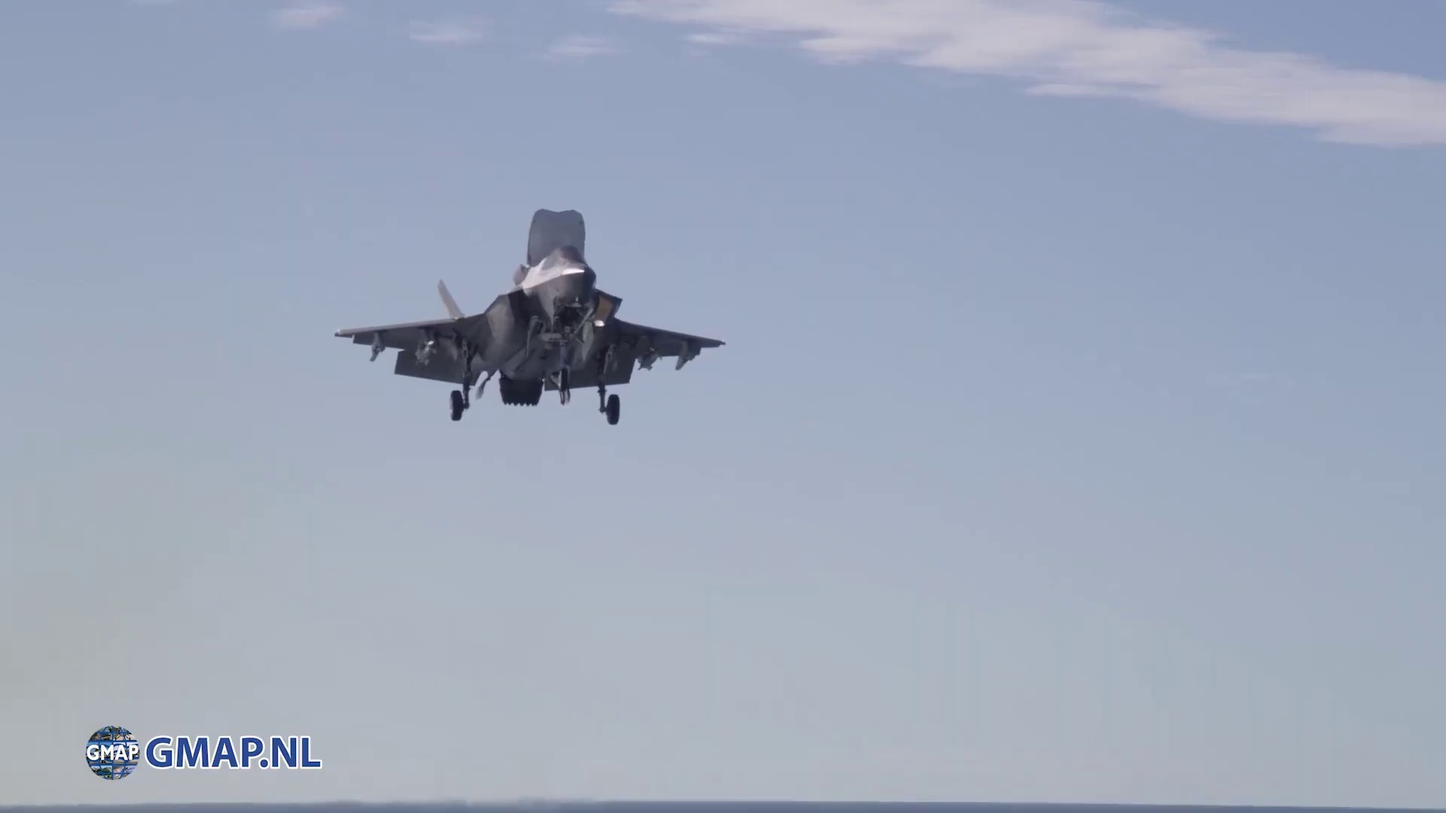F35: (328, 207, 730, 426)
